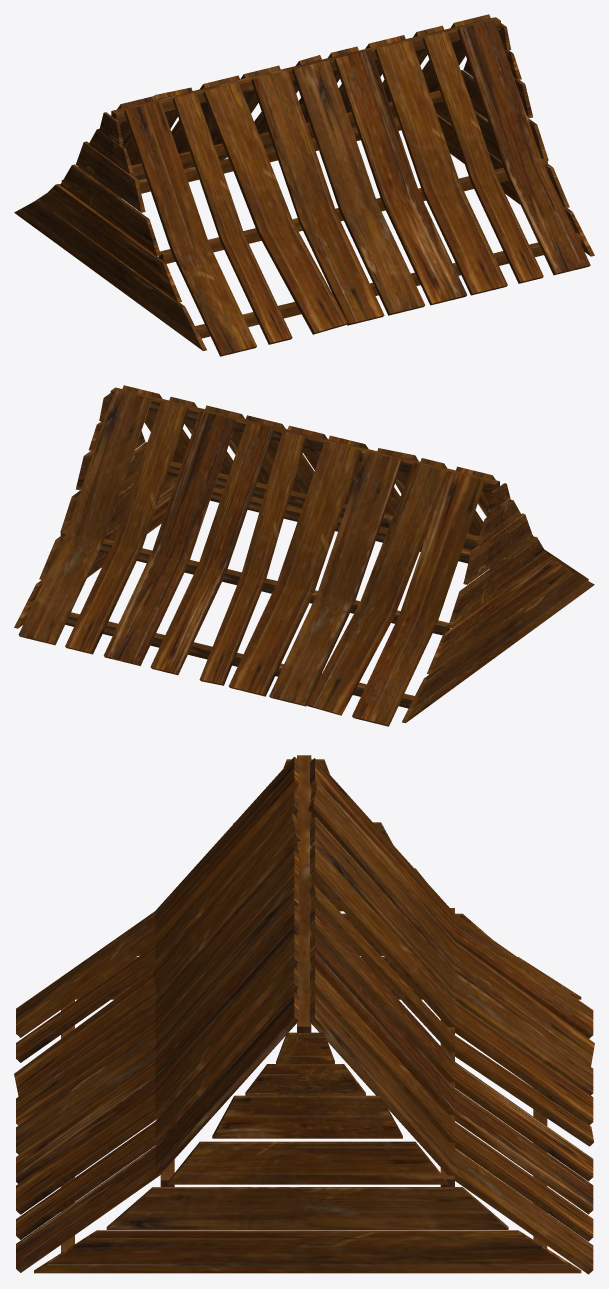
Rendered from shackRoof.fbx.
3 views of the same model, one above another, from view 1: azimuth 30°, elevation 25°; view 2: azimuth 150°, elevation 25°; view 3: azimuth 270°, elevation 25° (orthographic). The views are drawn at different scales.
Parts seen in each view (by area): view 1: Roof; view 2: Roof; view 3: Roof.
Part boxes in pixels (x1,y1,x2,y2): Roof: [14, 14, 594, 356]; Roof: [14, 385, 594, 726]; Roof: [14, 755, 594, 1274].
Bounding box in the file's own units: 415 × 180 × 369.
1 material, 1 textured.
